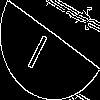I: (25, 24, 54, 71)
